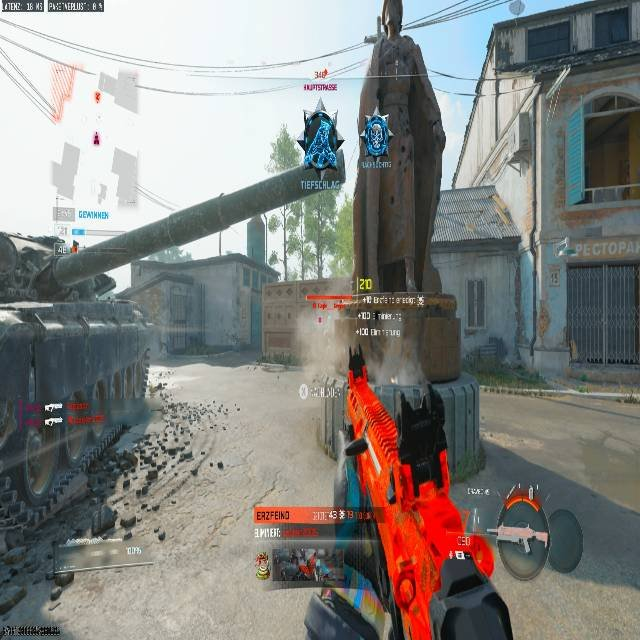player: (300, 107, 344, 177)
